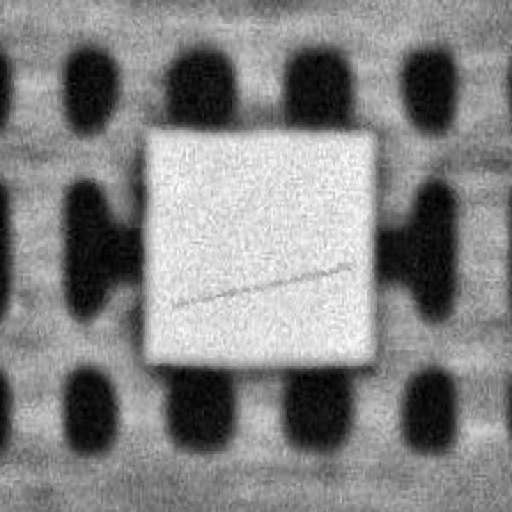DIE_CRACK: (255, 175, 512, 202)
